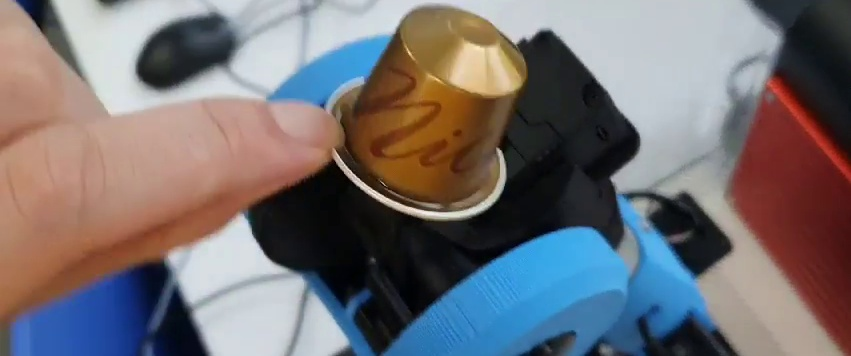capsule_9: (322, 3, 531, 227)
